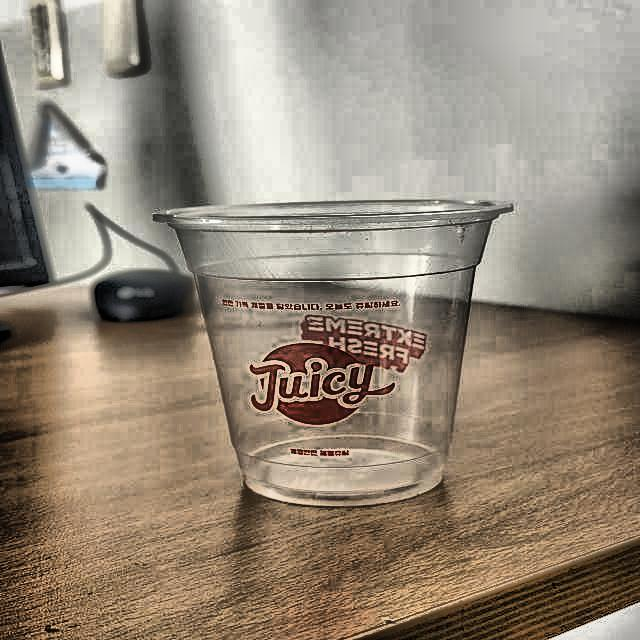plastic cup: (150, 195, 512, 506)
